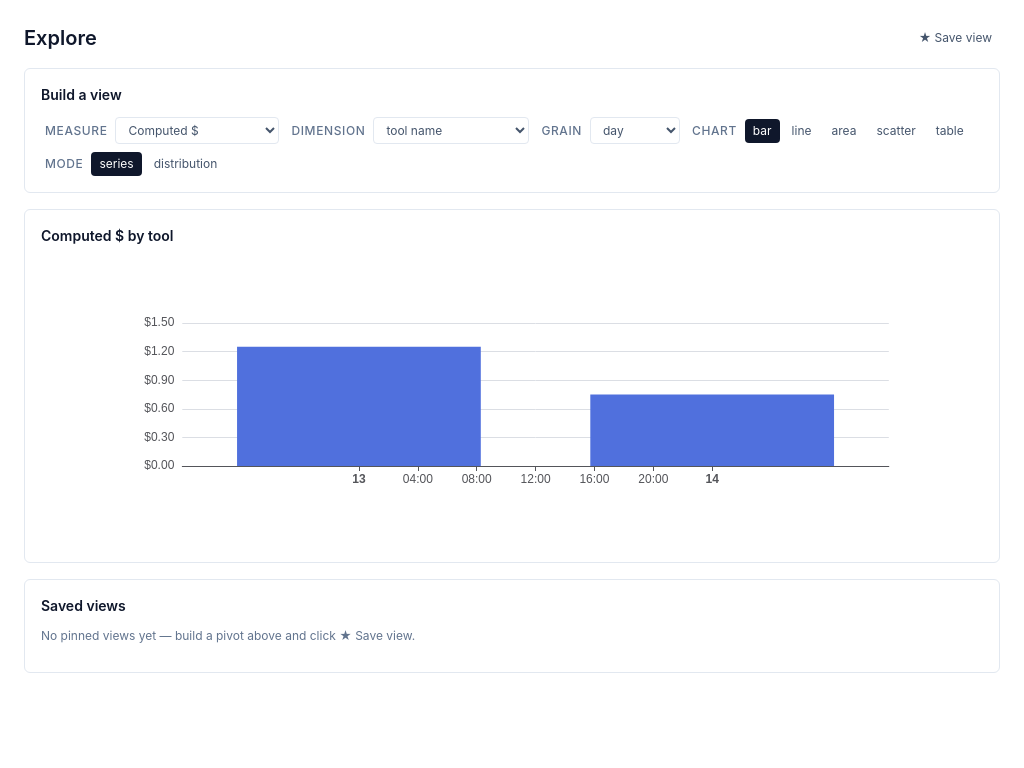
Explore page › renders the table view with drill buttons per row
What coordinates should you click on to do the following:
click the button with test id "xp-chart-table"
I would click on:
 (950, 130)
Its box is [928, 118, 972, 142].
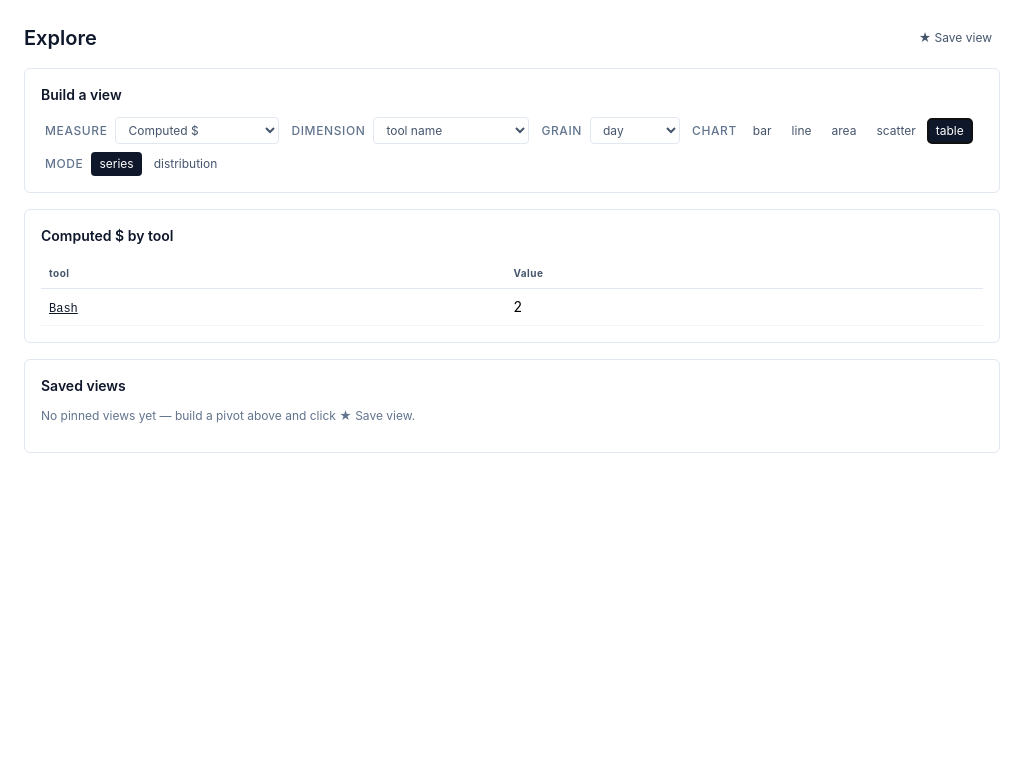
Now the button with test id "drill-slice-Bash" is shown, box [49, 301, 78, 317]
